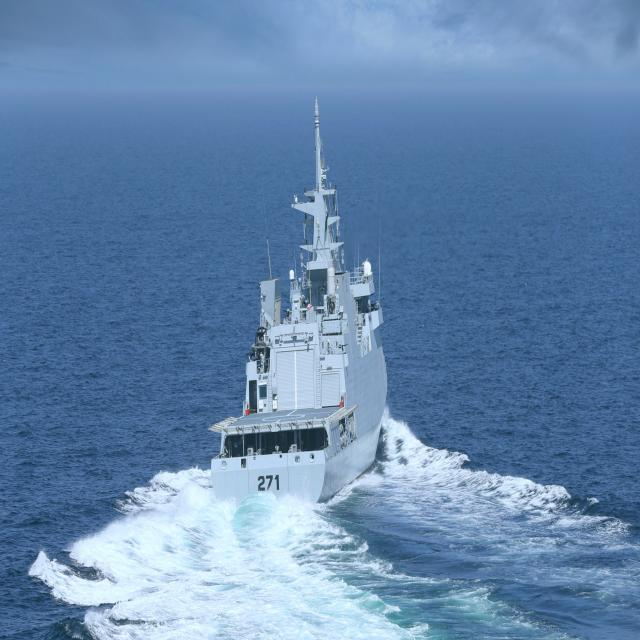Corvette-Yarmook-Class-PAK: (206, 88, 393, 502)
